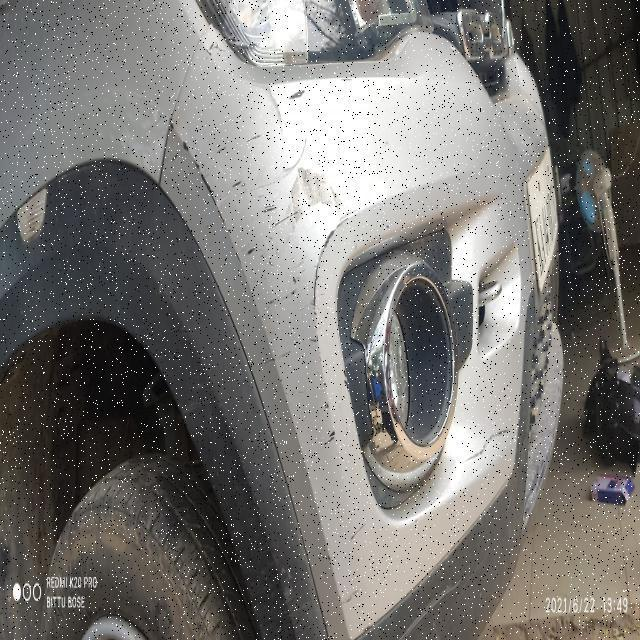front-bumper-dent: (170, 42, 510, 639)
